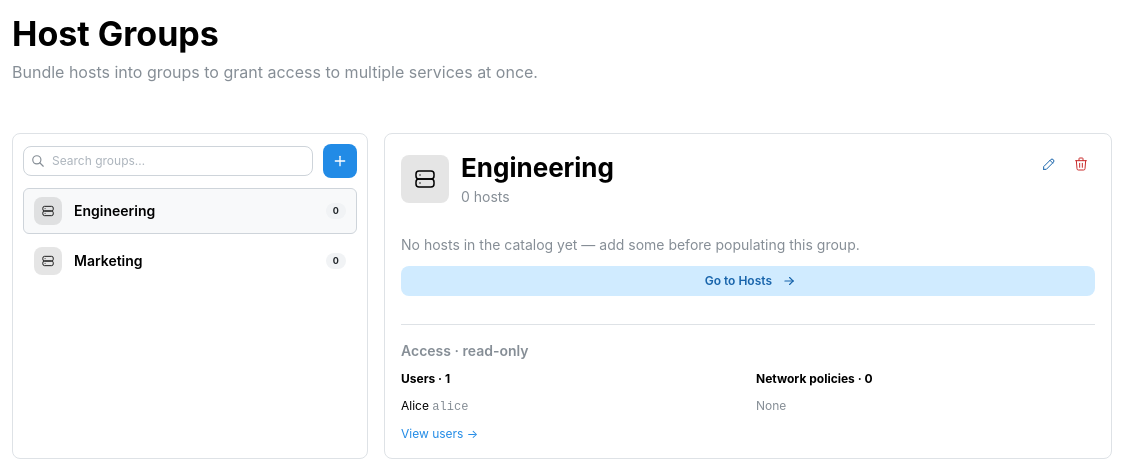
Test: HostGroupsPage › selected-group detail fetch › fetches and shows the newly selected group own detail, not the previous one
Expected: the text "Alice" is shown, [401,398,429,413]
Click the text "Marketing" at (108, 261), box [74,251,143,271]
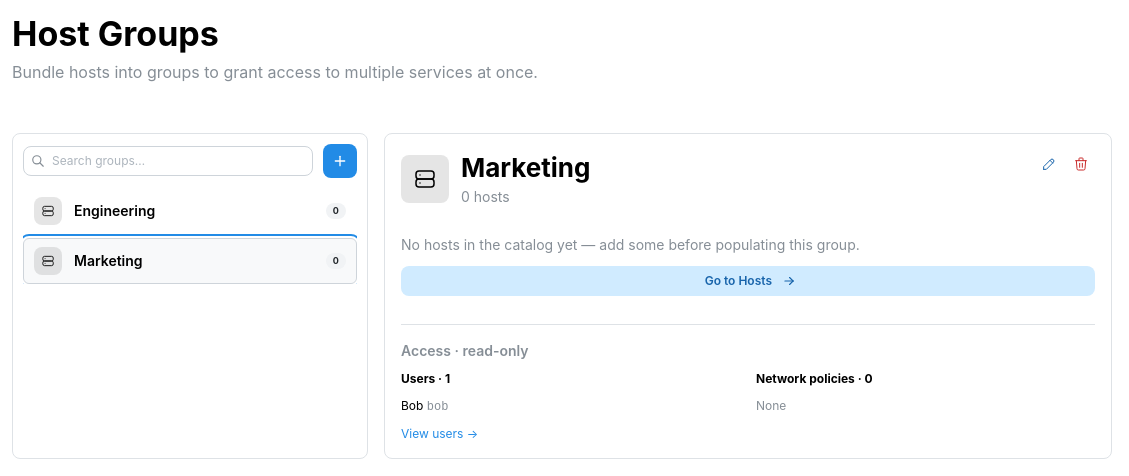
Result: the text "Bob" is shown at [401,398,423,413]
Result: the text "alice" is gone
